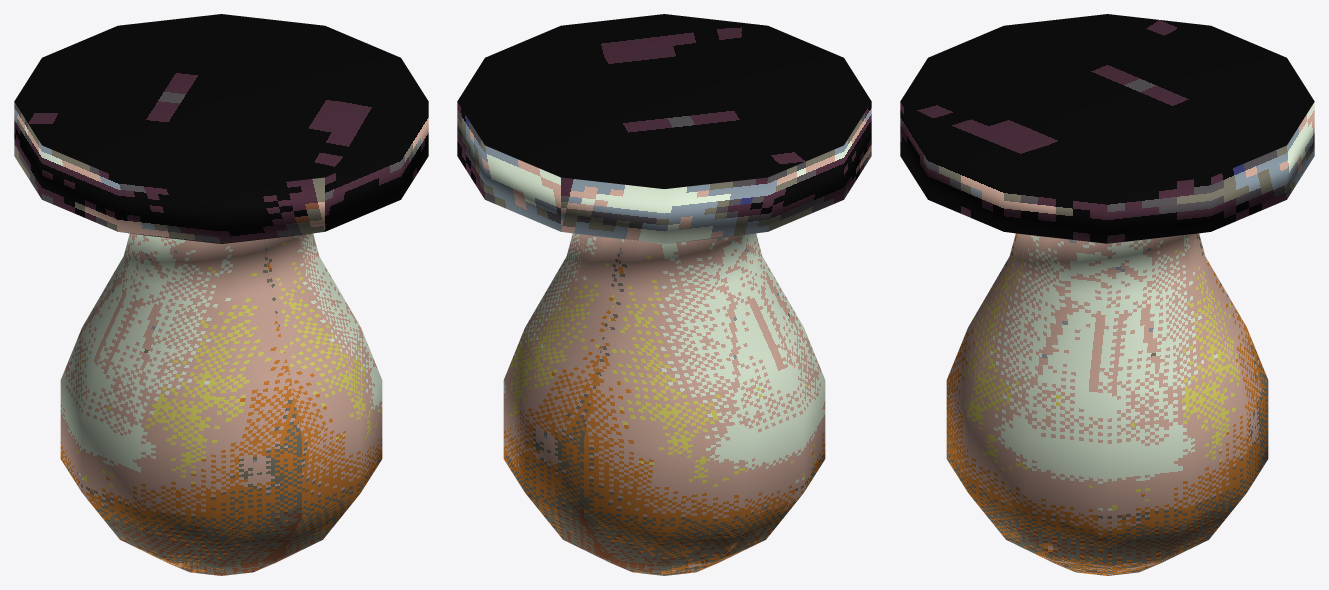
The model's file is lightbulb.gltf.
3 renders of one model, left to right at view 1: azimuth 30°, elevation 25°; view 2: azimuth 150°, elevation 25°; view 3: azimuth 270°, elevation 25°, orthographic.
Visible parts, largest first — view 1: lightbulb; view 2: lightbulb; view 3: lightbulb.
Part boxes in pixels (<box>): lightbulb: <box>14,14,428,575</box>; lightbulb: <box>457,14,871,575</box>; lightbulb: <box>900,14,1314,575</box>.
Size of the model in its own units: 0.163 by 0.1941 by 0.163.
1 material, 1 textured.
